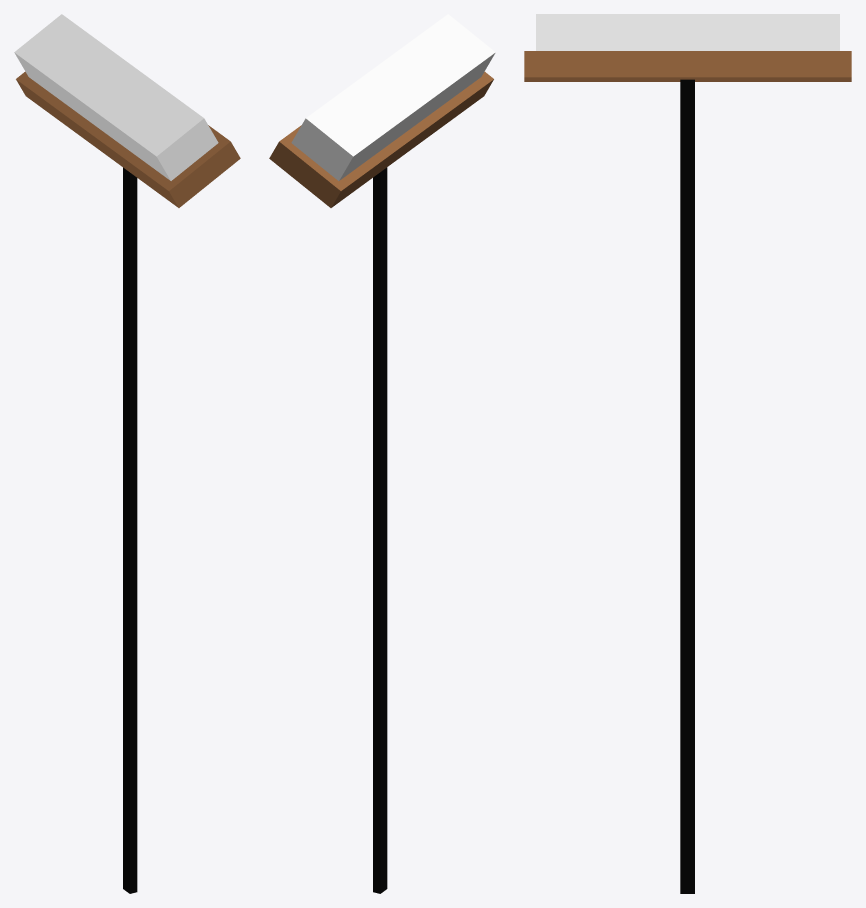
The model's file is Broom.fbx.
The picture shows the model from 3 angles, left to right: view 1: azimuth 30°, elevation 25°; view 2: azimuth 150°, elevation 25°; view 3: azimuth 270°, elevation 25°; orthographic projection. The views are drawn at different scales.
Visible parts, largest first — view 1: Broom; view 2: Broom; view 3: Broom.
Part boxes in pixels (x1=…): Broom: x1=14, y1=14, x2=240, y2=893; Broom: x1=269, y1=14, x2=495, y2=893; Broom: x1=524, y1=14, x2=851, y2=893.
Size of the model in its own units: 19.23 by 192 by 64.74.
